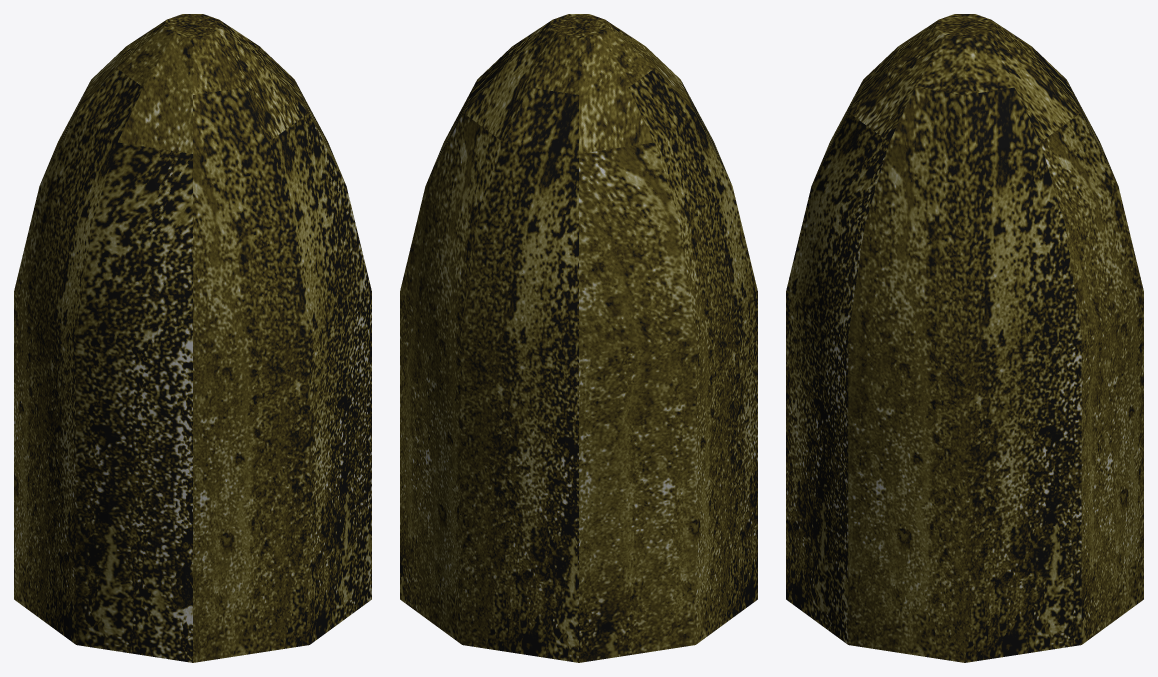
Rendered from tankShellsModelV1.fbx.
3 renders of one model, left to right at view 1: azimuth 30°, elevation 25°; view 2: azimuth 150°, elevation 25°; view 3: azimuth 270°, elevation 25°, orthographic.
Visible parts, largest first — view 1: Cylinder001; view 2: Cylinder001; view 3: Cylinder001.
Part boxes in pixels (x1,y1,x2,y2): Cylinder001: (14, 14, 371, 662); Cylinder001: (400, 14, 757, 662); Cylinder001: (786, 14, 1143, 662).
Size of the model in its own units: 15.52 by 27.23 by 15.76.
1 material, 1 textured.
